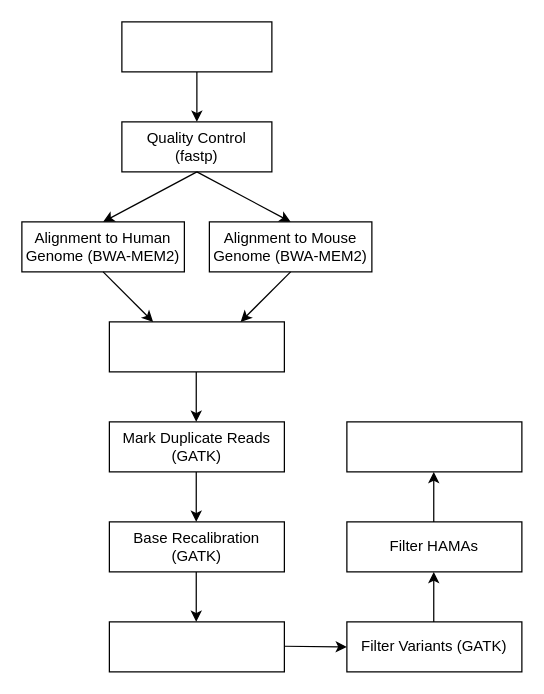
This 544x694 diagram has some shape labels left out. Here are the shapes that lost their labels. From the top down, the centre of each, then its label:
At point (196, 46): "FASTQ Input".
At point (196, 346): "Deconvolution of Mouse Reads (bamcmp)".
At point (434, 446): "Functional Variant Annotation (snpeff)".
At point (196, 646): "Tumor-Only Variant Calling (Mutect2)".
